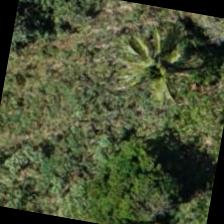Kelapa_Sawit: (104, 3, 208, 107)
